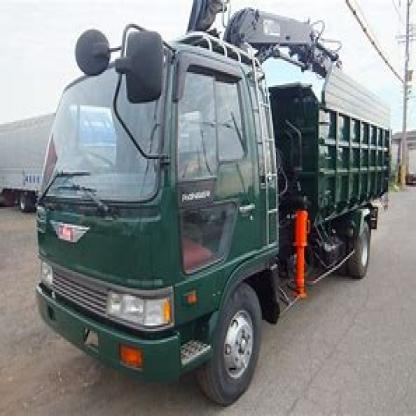dump_truck: (42, 32, 394, 400)
